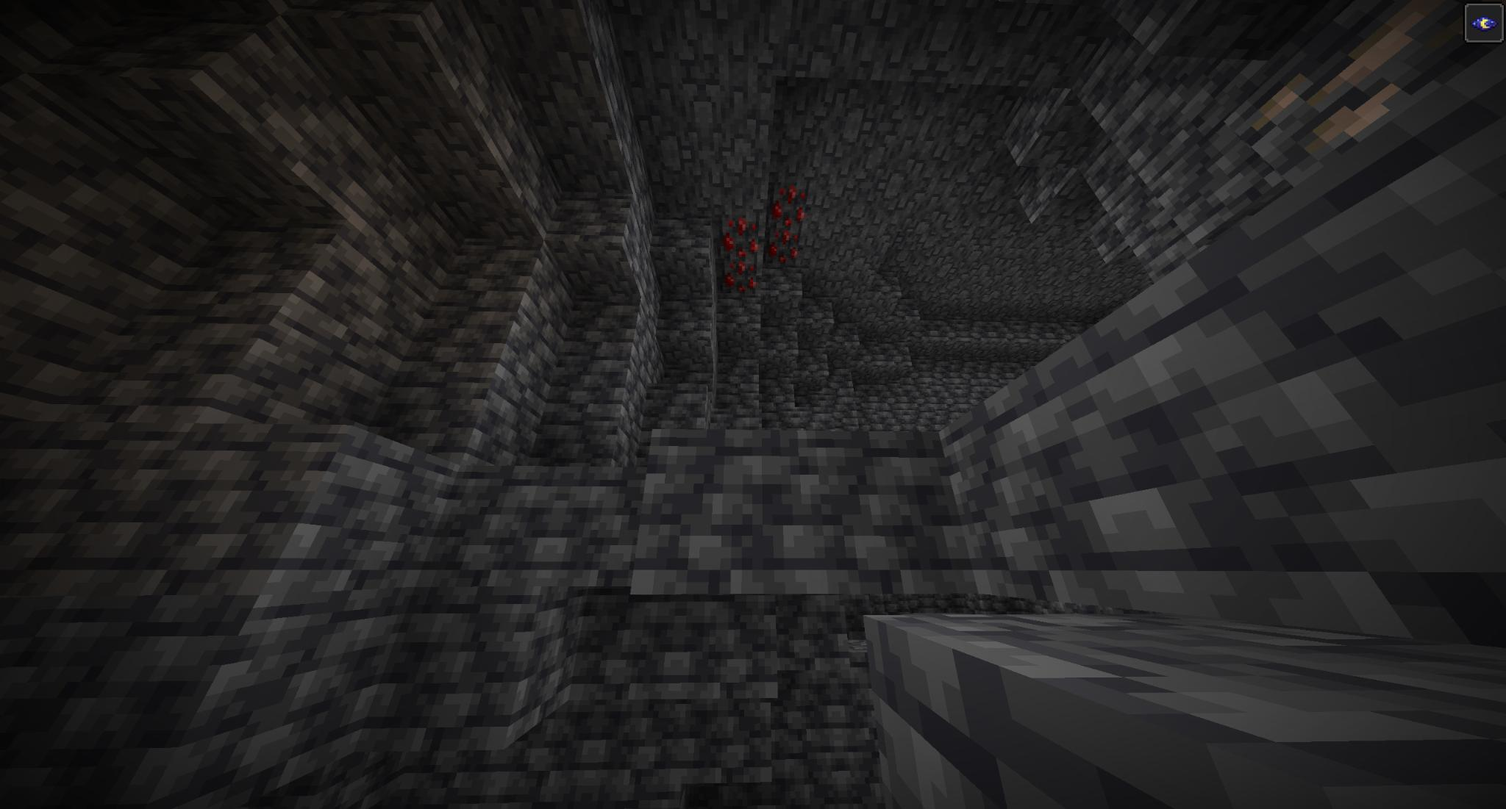redstone ore: (712, 212, 760, 261), (715, 258, 759, 298), (770, 182, 807, 226), (762, 222, 800, 263)
